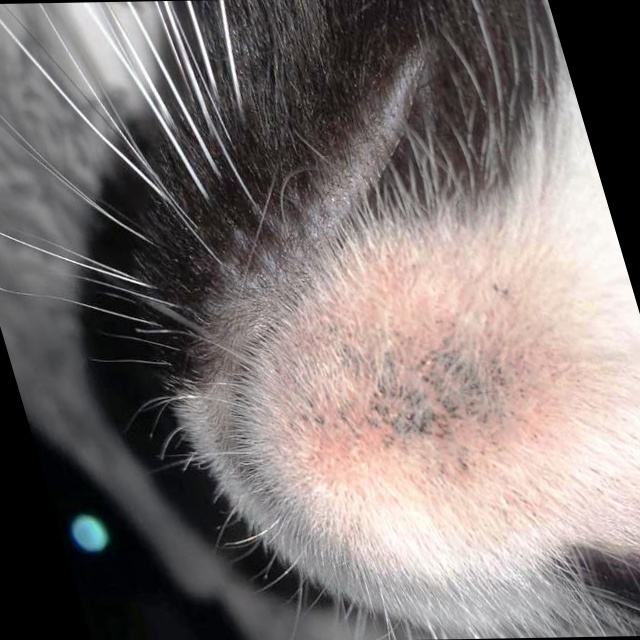acne: (233, 260, 588, 484)
